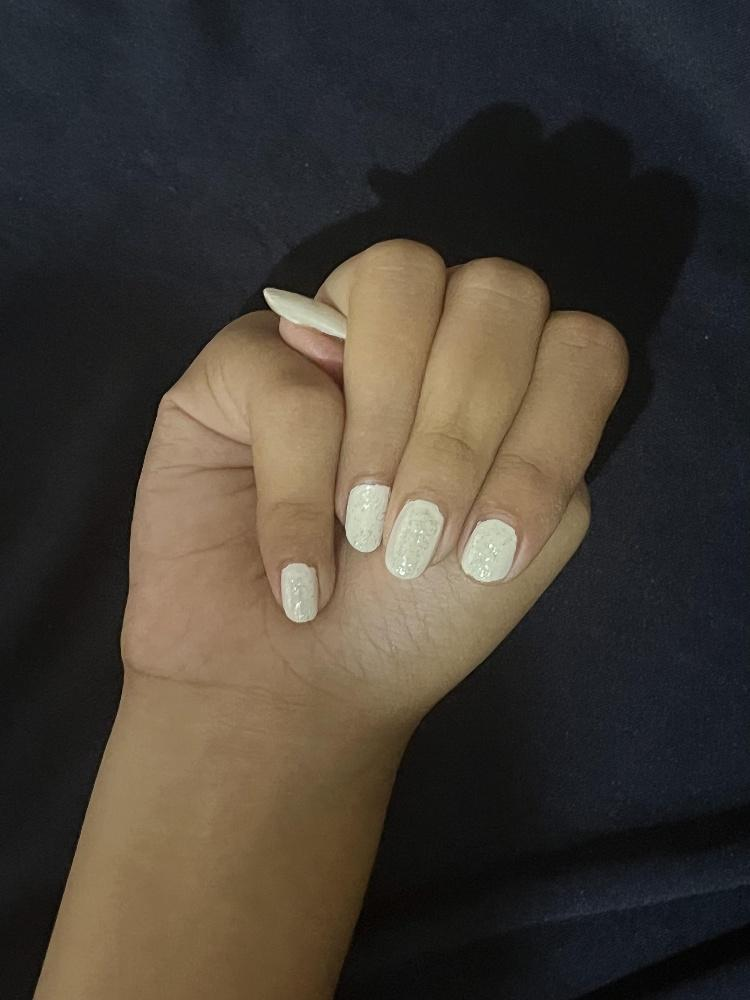m: (117, 236, 630, 707)
